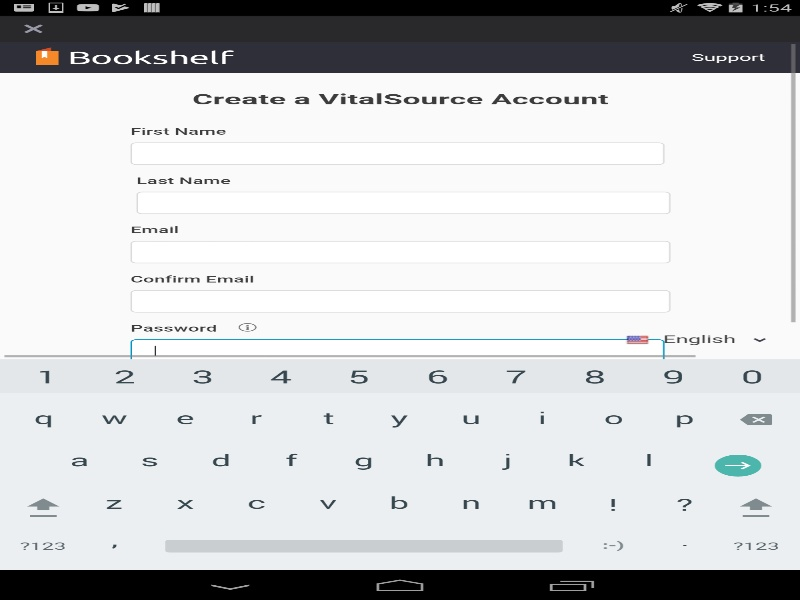Button: (130, 437, 670, 461), (625, 332, 766, 346)
Input: (130, 240, 670, 263), (130, 490, 670, 513), (136, 191, 670, 214), (130, 290, 670, 312), (130, 142, 664, 164), (130, 339, 664, 361), (136, 388, 670, 410)
